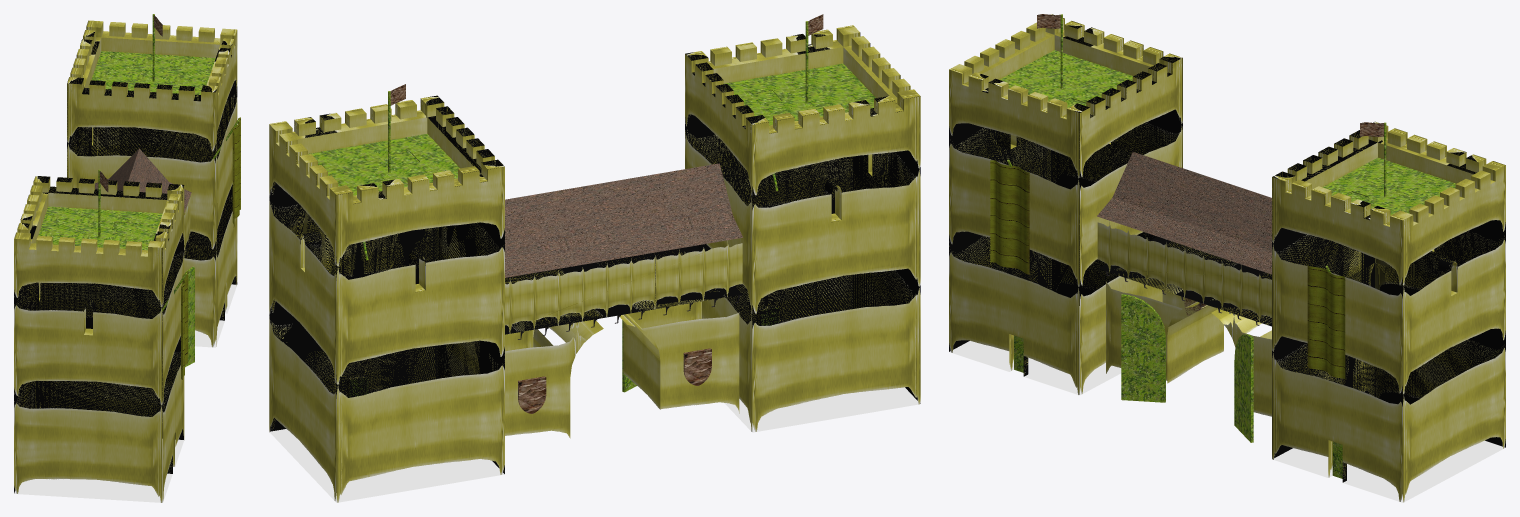
Rendered from Tralloper_Tor.dae.
The picture shows the model from 3 angles, left to right: view 1: azimuth 30°, elevation 25°; view 2: azimuth 150°, elevation 25°; view 3: azimuth 270°, elevation 25°; orthographic projection. The views are drawn at different scales.
Parts seen in each view (by area): view 1: Gruppe_11, Gruppe_11_1_2, Gruppe_9, Group4, Group2, Komponente_3; view 2: Gruppe_11_1_2, Gruppe_11, Gruppe_9, Gruppe_4, Gruppe_12 (×2); view 3: Gruppe_11_1_2, Gruppe_11, Gruppe_9, Gruppe_4, Komponente_3 (×2), Group2, Group4.
Part boxes in pixels (<box>): Gruppe_11: <box>14,176,184,502</box>; Gruppe_11_1_2: <box>67,20,237,347</box>; Gruppe_9: <box>95,148,191,256</box>; Group4: <box>232,117,240,227</box>; Group2: <box>181,270,188,379</box>; Komponente_3: <box>185,266,194,367</box>; Gruppe_11_1_2: <box>269,95,504,502</box>; Gruppe_11: <box>685,25,920,432</box>; Gruppe_9: <box>505,163,742,334</box>; Gruppe_4: <box>505,301,739,438</box>; Gruppe_12 (×2): <box>518,348,711,413</box>; Gruppe_11_1_2: <box>1272,121,1505,502</box>; Gruppe_11: <box>949,14,1182,395</box>; Gruppe_9: <box>1097,152,1271,326</box>; Gruppe_4: <box>1106,281,1271,416</box>; Komponente_3 (×2): <box>1121,294,1253,442</box>; Group2: <box>990,160,1029,274</box>; Group4: <box>1307,265,1345,379</box>.
Bounding box in the file's own units: 2475 × 2824 × 1849.
